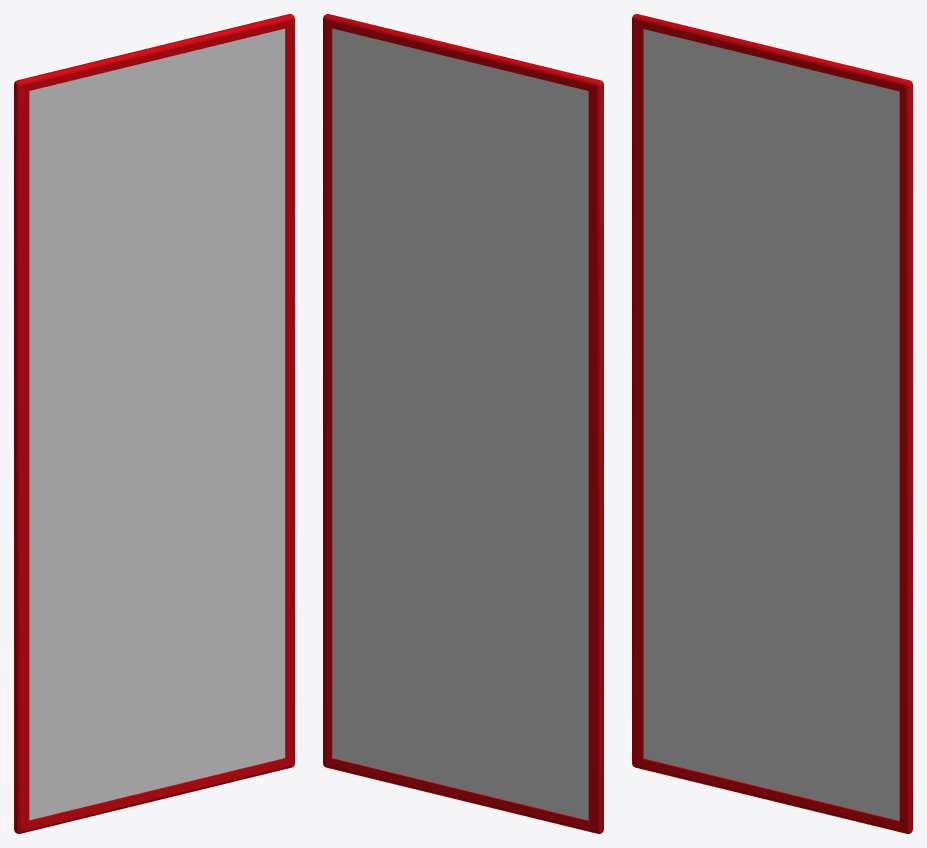
Rendered from Wall_2_1_Frame.fbx.
3 renders of one model, left to right at view 1: azimuth 30°, elevation 25°; view 2: azimuth 150°, elevation 25°; view 3: azimuth 330°, elevation 25°, orthographic.
Visible parts, largest first — view 1: Wall_2_1, Wall_2_1_Frame; view 2: Wall_2_1, Wall_2_1_Frame; view 3: Wall_2_1, Wall_2_1_Frame.
Part boxes in pixels (x1,y1,x2,y2): Wall_2_1: [29, 28, 285, 820]; Wall_2_1_Frame: [14, 14, 294, 833]; Wall_2_1: [332, 28, 588, 820]; Wall_2_1_Frame: [323, 14, 603, 833]; Wall_2_1: [643, 29, 899, 820]; Wall_2_1_Frame: [632, 14, 912, 833].
Size of the model in its own units: 2.7 by 6.97 by 0.0785.
